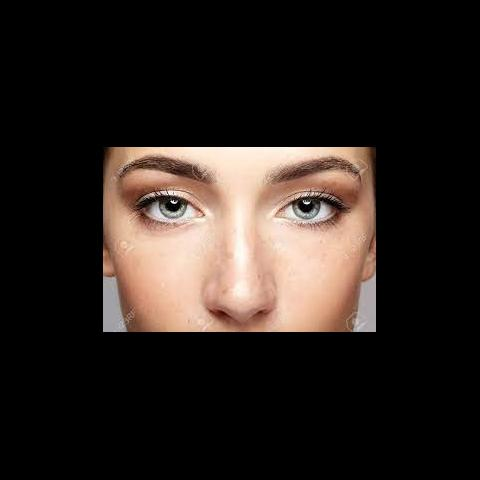opened: (120, 152, 364, 242)
